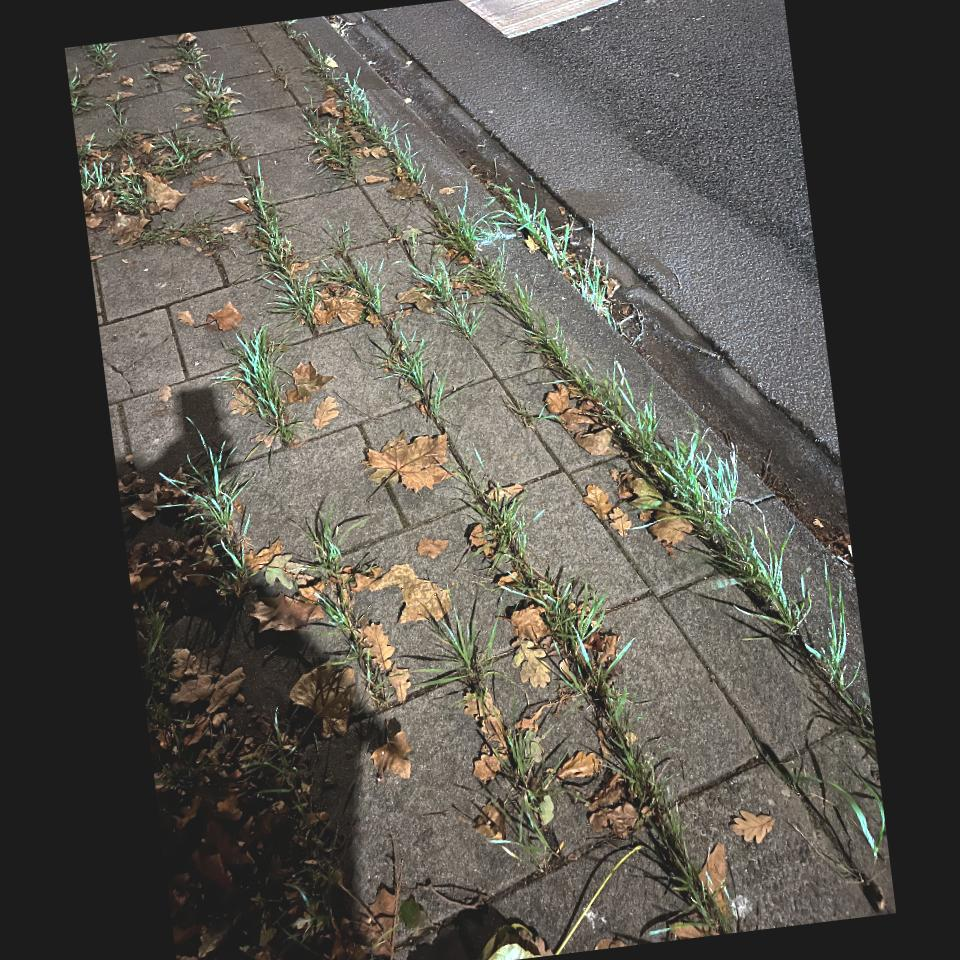weed: (312, 41, 864, 682)
